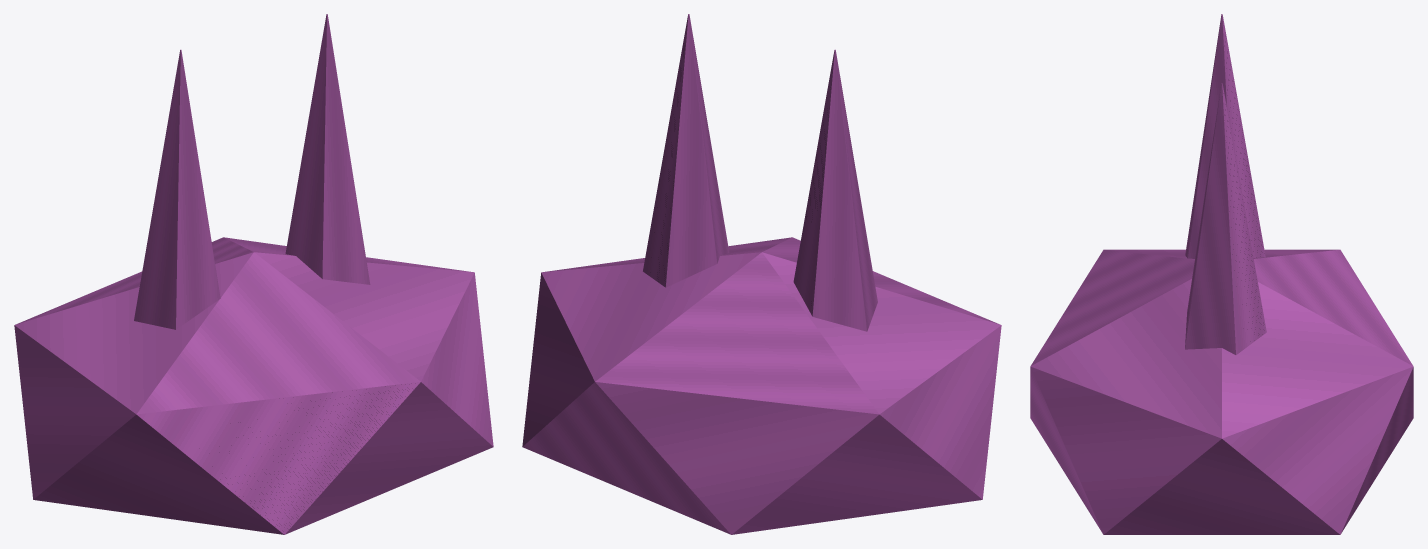
File: bounce_power.glb
3 renders of one model, left to right at view 1: azimuth 30°, elevation 25°; view 2: azimuth 150°, elevation 25°; view 3: azimuth 270°, elevation 25°, orthographic. The views are drawn at different scales.
Parts seen in each view (by area): view 1: gear_bounce_power; view 2: gear_bounce_power; view 3: gear_bounce_power.
Part boxes in pixels (box(x1,y1,x2,y2)): gear_bounce_power: box(14, 14, 493, 534); gear_bounce_power: box(522, 14, 1001, 534); gear_bounce_power: box(1030, 14, 1413, 534).
Bounding box in the file's own units: 0.483 × 0.51 × 0.3743.
Materials: 1 (1 with a texture image).
